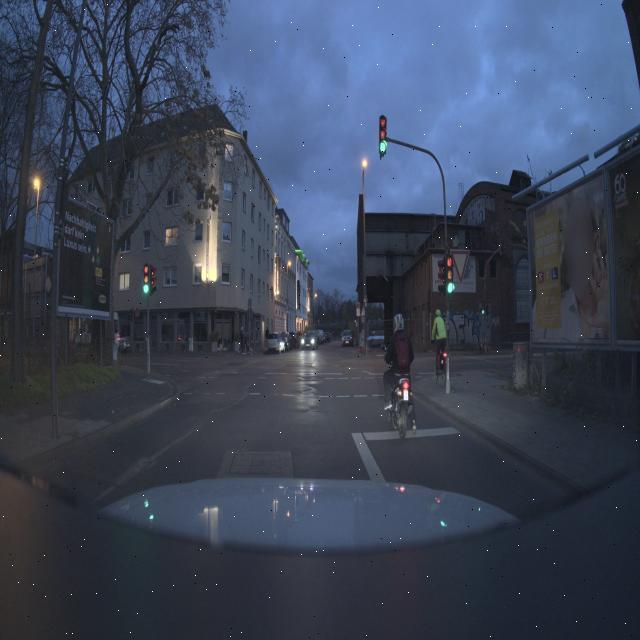green_light: (430, 234, 475, 316), (366, 102, 401, 176), (132, 250, 164, 320)
